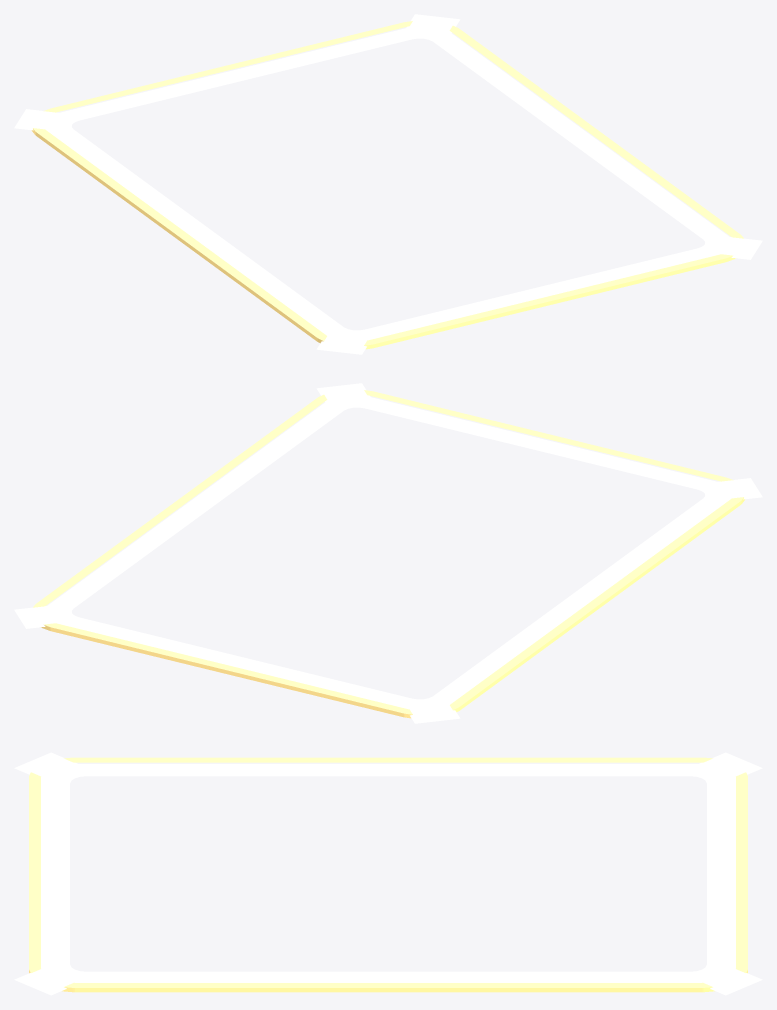
Rendered from mwx_plate_g.glb.
3 renders of one model, top to bottom at view 1: azimuth 30°, elevation 25°; view 2: azimuth 150°, elevation 25°; view 3: azimuth 270°, elevation 25°, orthographic. The views are drawn at different scales.
Visible parts, largest first — view 1: mwx_plate_g; view 2: mwx_plate_g; view 3: mwx_plate_g.
Part boxes in pixels (left/top/right/bottom): mwx_plate_g: left=14, top=14, right=762, bottom=354; mwx_plate_g: left=14, top=383, right=762, bottom=723; mwx_plate_g: left=14, top=752, right=762, bottom=995.
Size of the model in its own units: 8.5 by 0.21 by 11.07.
